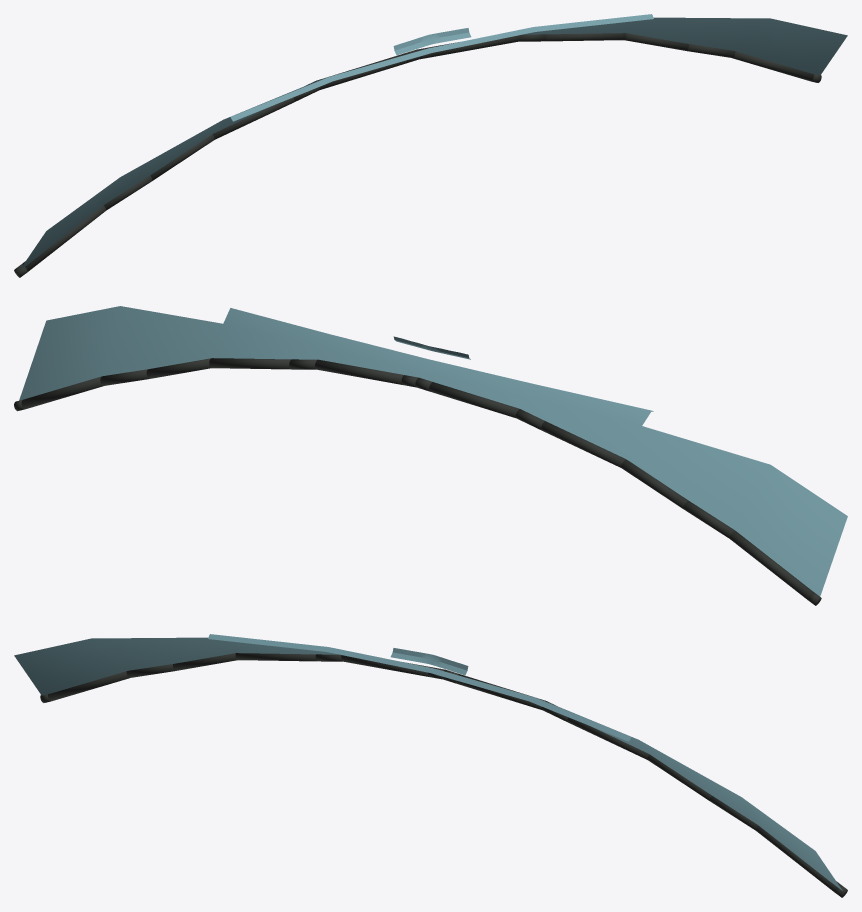
File: STAGE2_PART_009_RearEngineOpening.glb
3 views of the same model, one above another, from view 1: azimuth 30°, elevation 25°; view 2: azimuth 150°, elevation 25°; view 3: azimuth 330°, elevation 25° (orthographic).
Parts seen in each view (by area): view 1: BODY_Stage2_RearDeck_B_Body_Engine_Lid_Rear_0, TRIM_Stage2_RearDeck_B_Body_Engine_Lid_Rear_0; view 2: BODY_Stage2_RearDeck_B_Body_Engine_Lid_Rear_0, TRIM_Stage2_RearDeck_B_Body_Engine_Lid_Rear_0; view 3: BODY_Stage2_RearDeck_B_Body_Engine_Lid_Rear_0, TRIM_Stage2_RearDeck_B_Body_Engine_Lid_Rear_0.
Boxes of the visible parts, x1,y1,x2,y2 form: BODY_Stage2_RearDeck_B_Body_Engine_Lid_Rear_0: (19, 14, 847, 270); TRIM_Stage2_RearDeck_B_Body_Engine_Lid_Rear_0: (14, 33, 821, 277); BODY_Stage2_RearDeck_B_Body_Engine_Lid_Rear_0: (19, 306, 847, 596); TRIM_Stage2_RearDeck_B_Body_Engine_Lid_Rear_0: (14, 358, 821, 605); BODY_Stage2_RearDeck_B_Body_Engine_Lid_Rear_0: (14, 634, 842, 890); TRIM_Stage2_RearDeck_B_Body_Engine_Lid_Rear_0: (40, 653, 847, 897).
Size of the model in its own units: 0.7317 by 0.1336 by 0.0501.
